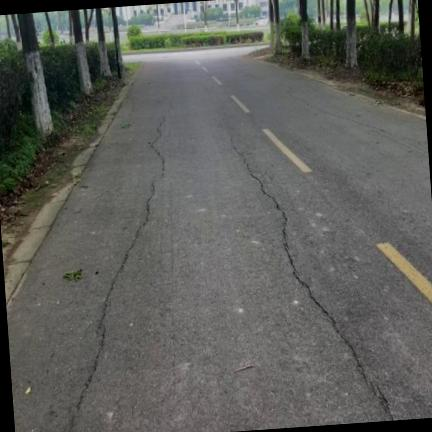Road: (6, 48, 431, 431)
